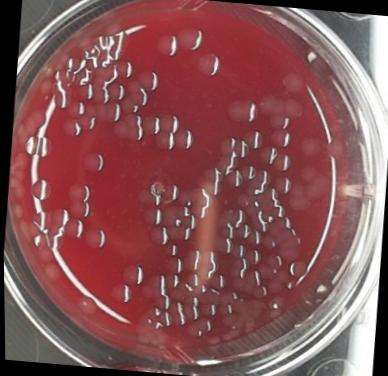vangil: (258, 93, 305, 130), (111, 112, 146, 142), (224, 95, 259, 124), (150, 29, 181, 59), (175, 22, 205, 53), (242, 166, 272, 197), (191, 49, 221, 77), (219, 134, 250, 158), (281, 67, 308, 93), (197, 250, 220, 280), (79, 148, 105, 174), (81, 225, 108, 250), (185, 314, 213, 338), (201, 166, 223, 196), (170, 127, 196, 151), (135, 68, 161, 92), (65, 198, 93, 220), (119, 262, 144, 286), (108, 280, 133, 304), (156, 112, 180, 136), (242, 126, 265, 150), (66, 180, 91, 202), (145, 225, 170, 247), (166, 300, 187, 326), (214, 154, 238, 176), (139, 205, 163, 226), (257, 143, 279, 165), (181, 295, 200, 320), (141, 112, 162, 134), (269, 127, 292, 147), (182, 248, 202, 271), (153, 130, 175, 150), (272, 174, 292, 194), (228, 258, 248, 278), (213, 236, 233, 255), (272, 152, 291, 171), (237, 162, 257, 180), (224, 168, 243, 186), (165, 256, 184, 274), (107, 82, 126, 100), (162, 272, 180, 290), (200, 301, 216, 318), (234, 192, 251, 208), (162, 242, 178, 256)
